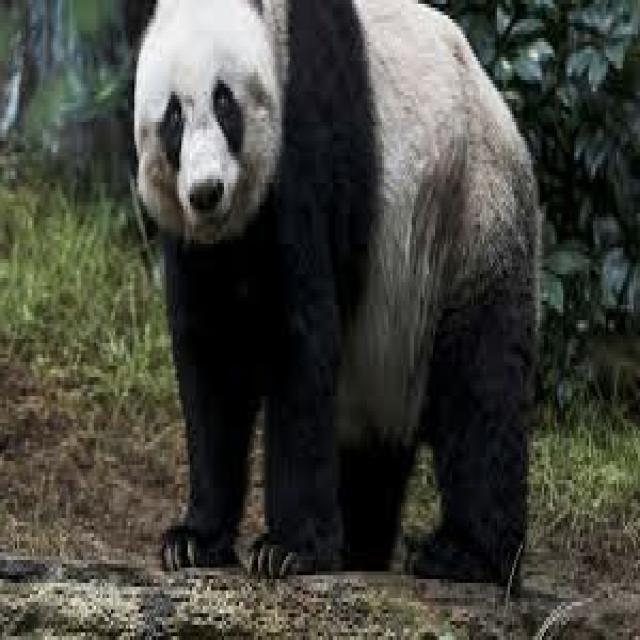panda: (137, 0, 540, 579)
